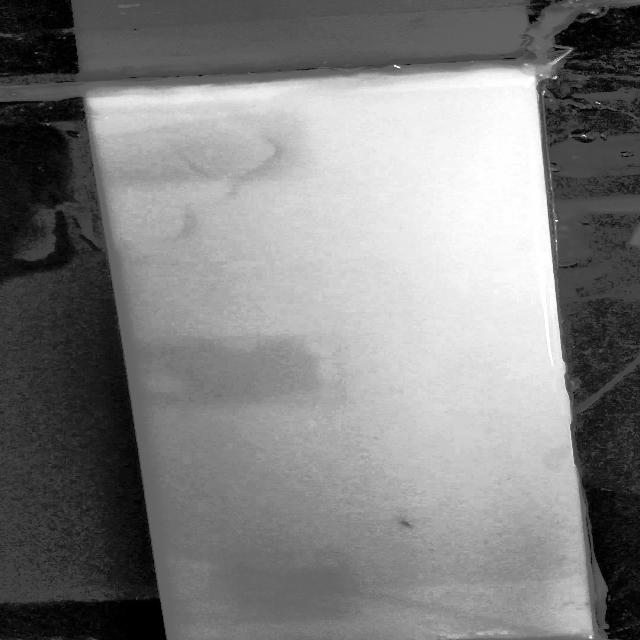shrimp: (391, 513, 427, 533)
